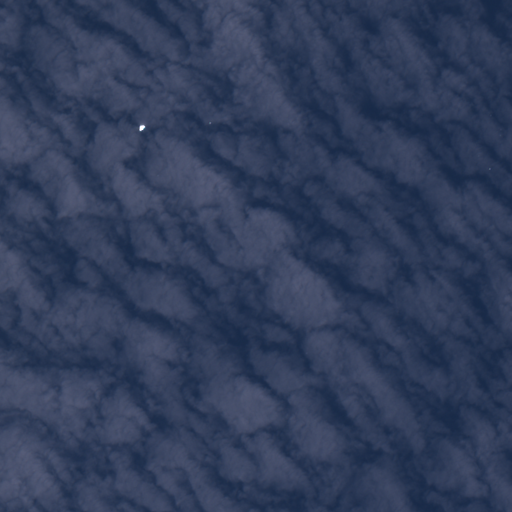Iceberg: (139, 125, 145, 130), (209, 122, 210, 123), (489, 168, 490, 169)
